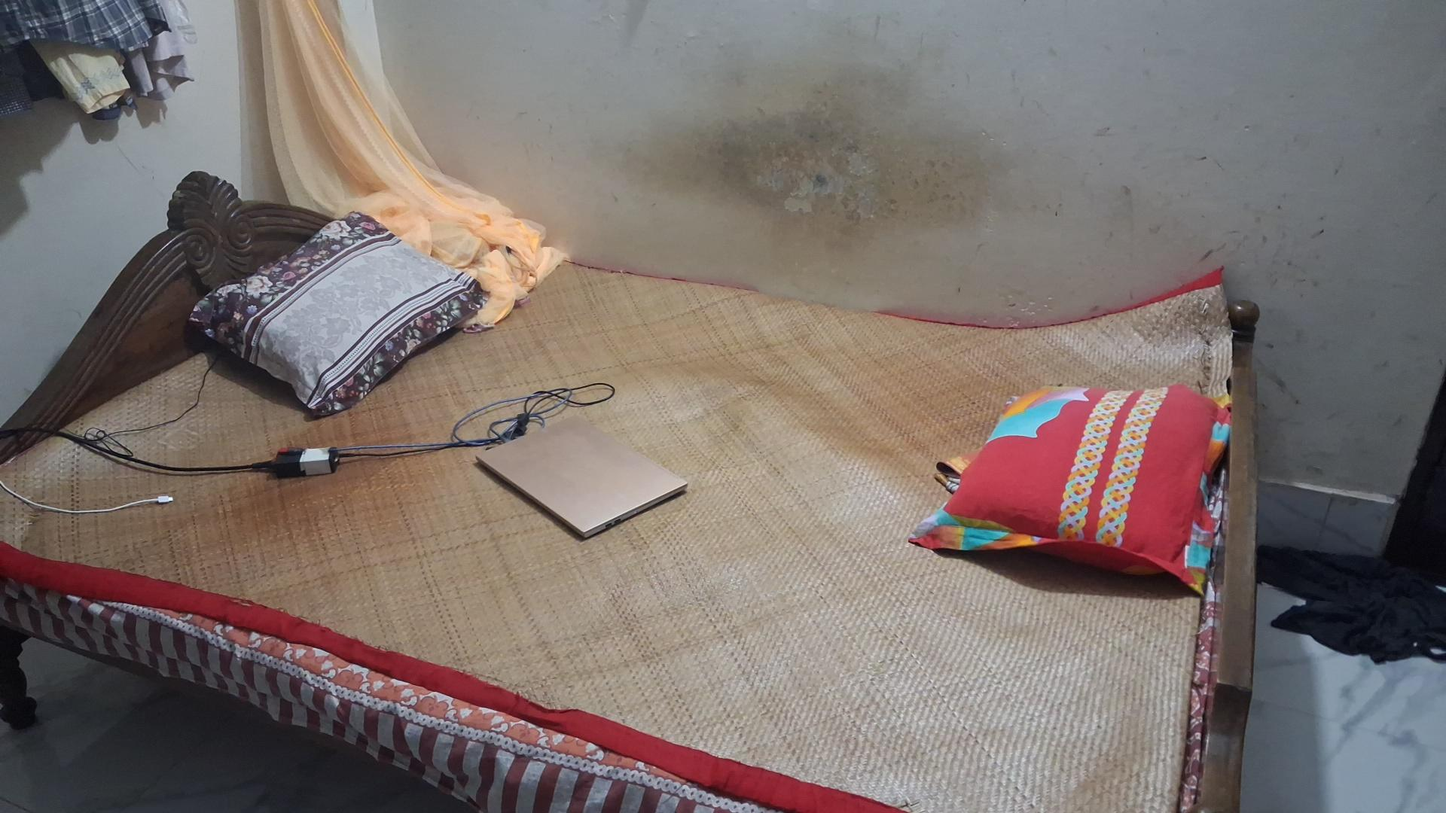Laptop: (479, 418, 687, 541)
Pillow: (904, 382, 1233, 593), (189, 215, 489, 416)
